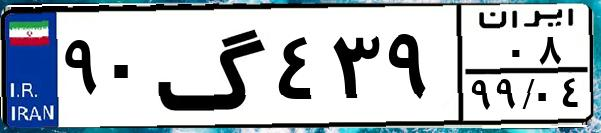0: (110, 28, 156, 98), (508, 27, 537, 80), (535, 70, 560, 125)
3: (330, 28, 385, 110)
4: (270, 28, 330, 110), (560, 70, 590, 125)
8: (537, 27, 568, 80)
9: (385, 28, 445, 110), (57, 26, 110, 100), (470, 70, 495, 125), (495, 70, 520, 125)
گ: (156, 12, 270, 120)
